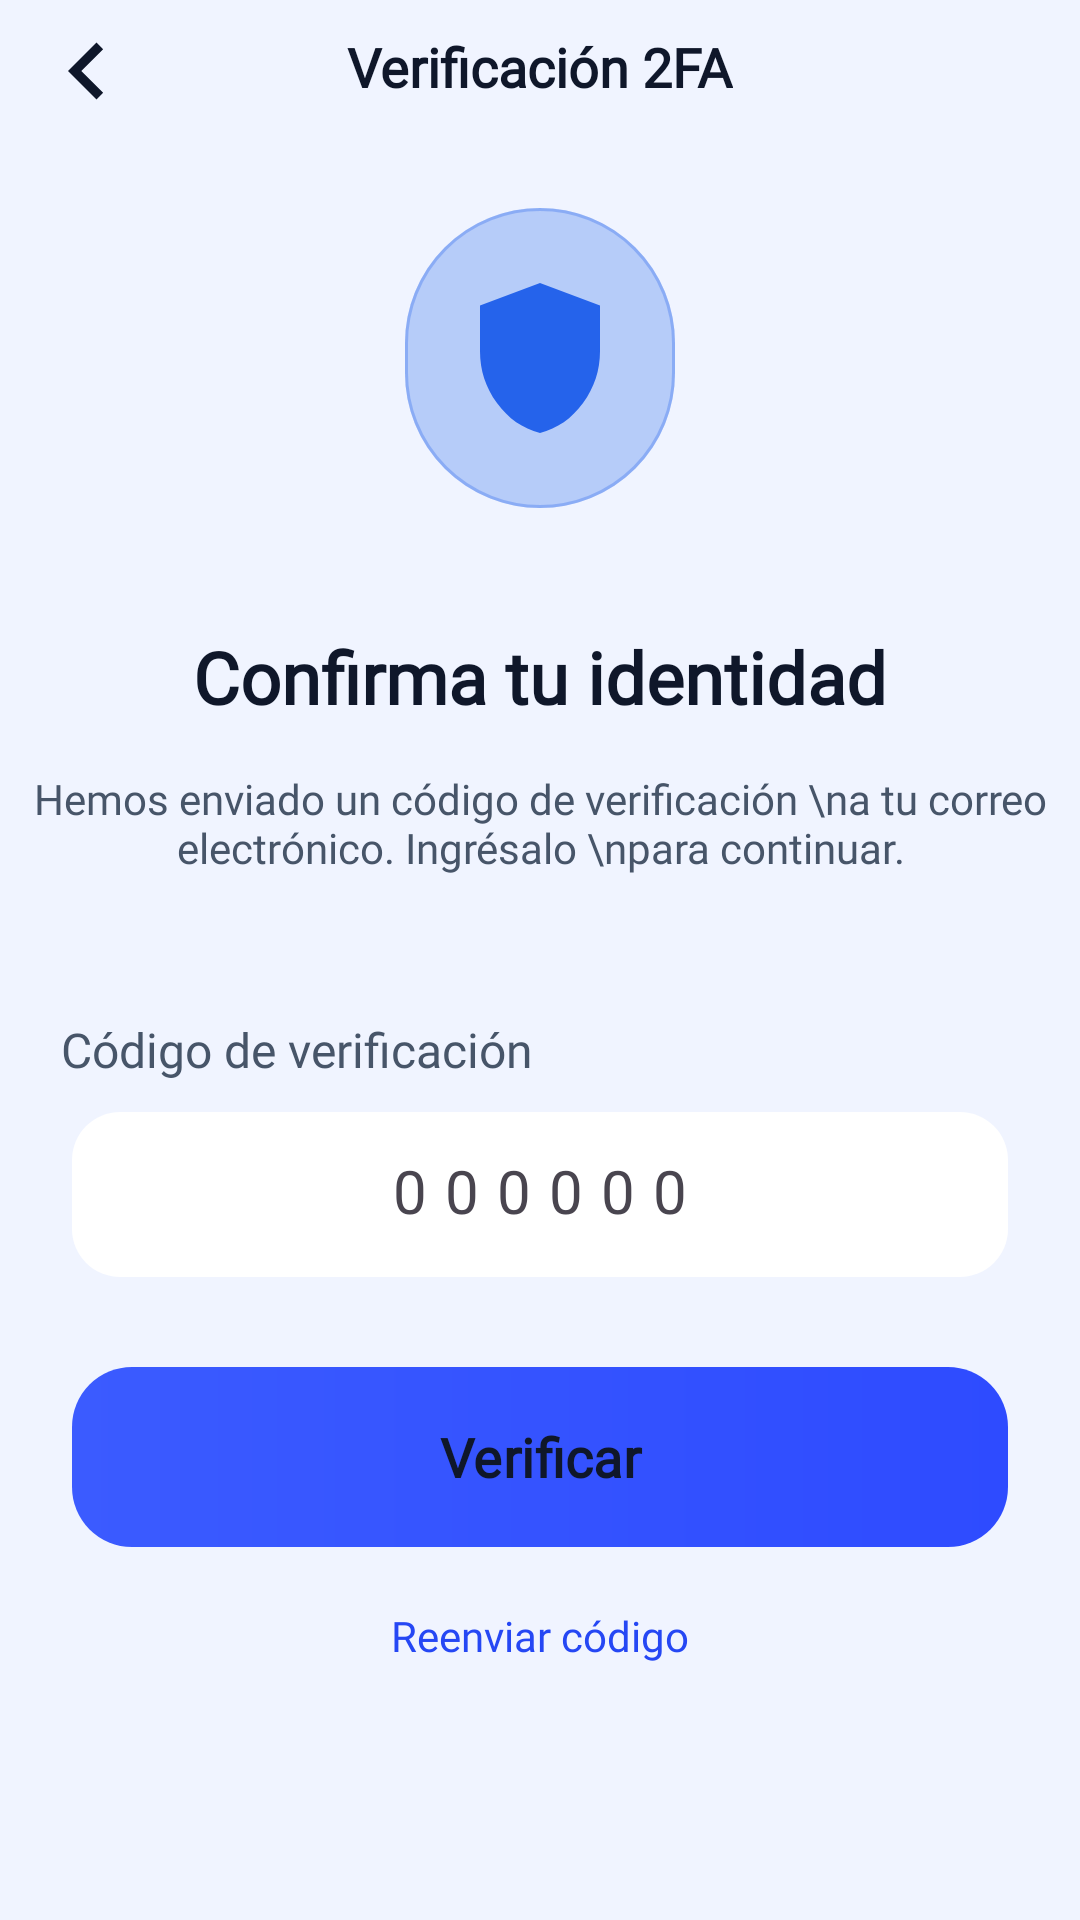

Where icons sit on this 1080px×1920px app screen, as (x1, y1, x2, y2):
back: (68, 42, 103, 100)
